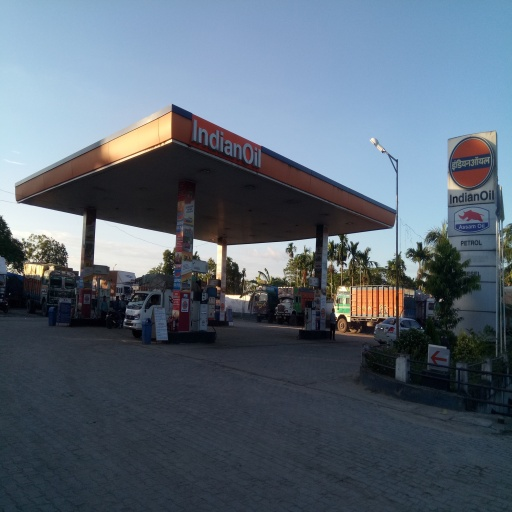roof: (15, 104, 398, 245)
